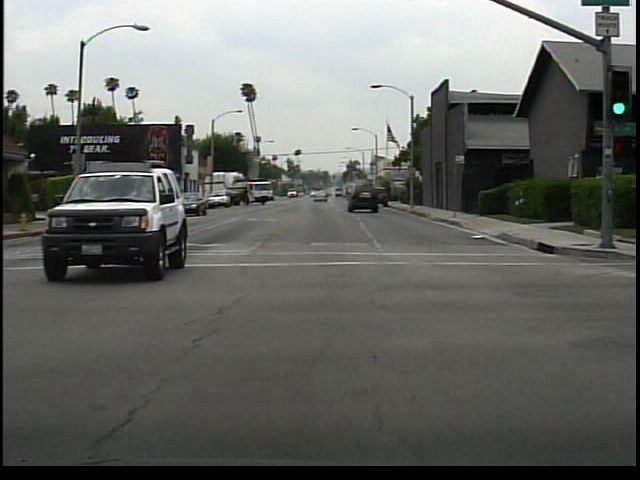person: (95, 182, 115, 219)
